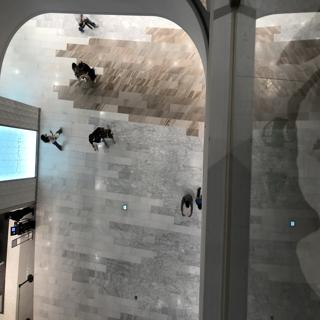person: (68, 56, 105, 93), (41, 124, 71, 157), (87, 124, 119, 149), (177, 191, 196, 224)
